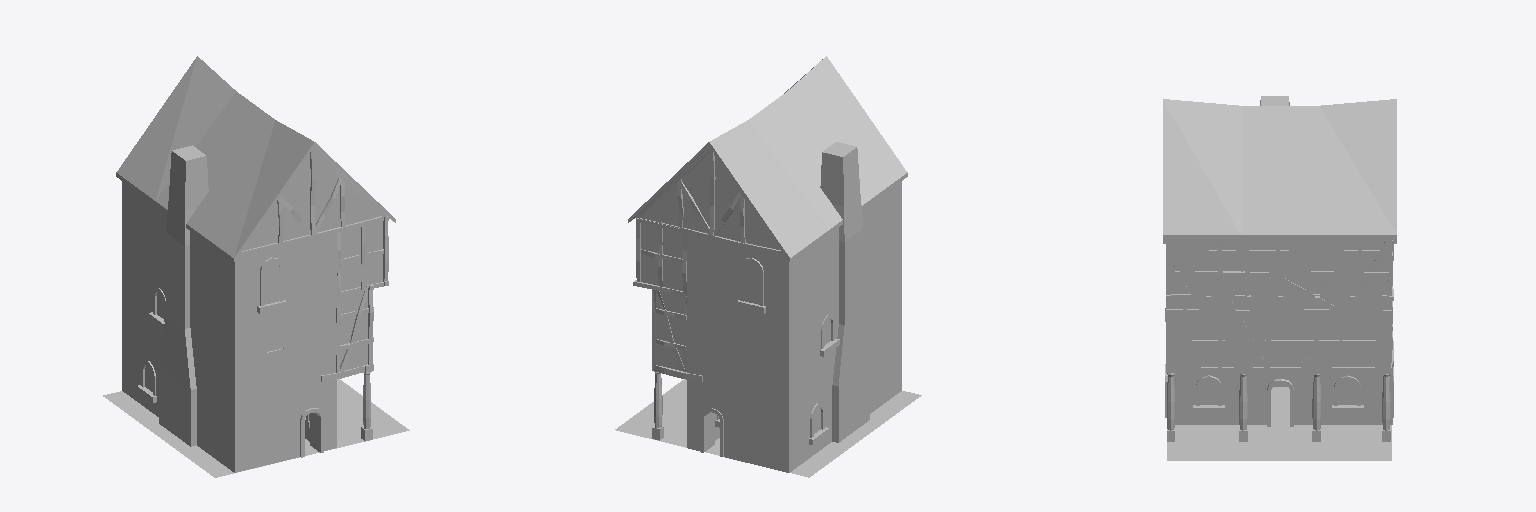
Rendered from Shambles.obj.
3 renders of one model, left to right at view 1: azimuth 30°, elevation 25°; view 2: azimuth 150°, elevation 25°; view 3: azimuth 270°, elevation 25°, orthographic.
Parts seen in each view (by area): view 1: limestone, roof, offwhite, fadewood, grass, floor; view 2: limestone, roof, offwhite, fadewood, grass, floor; view 3: roof, offwhite, fadewood, limestone, grass, grill, floor.
Boxes of the visible parts, box(x1,y1,x2,y2) form: limestone: box(122, 145, 336, 472); roof: box(116, 56, 395, 262); offwhite: box(243, 148, 382, 370); fadewood: box(238, 147, 389, 428); grass: box(103, 379, 409, 477); floor: box(145, 262, 279, 391); limestone: box(687, 142, 901, 472); roof: box(628, 56, 907, 262); offwhite: box(637, 153, 779, 370); fadewood: box(633, 146, 784, 427); grass: box(615, 379, 921, 477); floor: box(744, 262, 830, 433); roof: box(1163, 99, 1396, 239); offwhite: box(1170, 240, 1388, 367); fadewood: box(1165, 240, 1393, 430); limestone: box(1163, 96, 1396, 426); grass: box(1167, 387, 1391, 460); grill: box(1187, 254, 1375, 339); floor: box(1200, 380, 1356, 404).
Size of the model in its own units: 76 by 117 by 79.18.